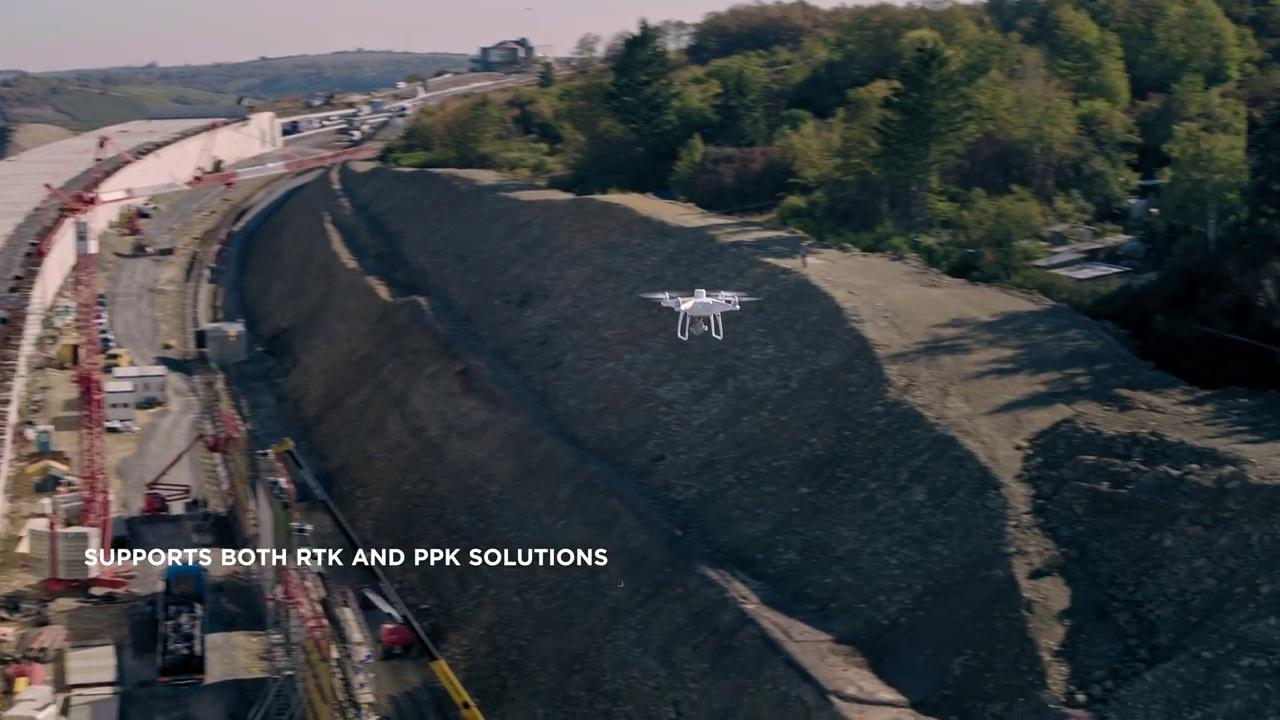drone: (634, 285, 764, 341)
